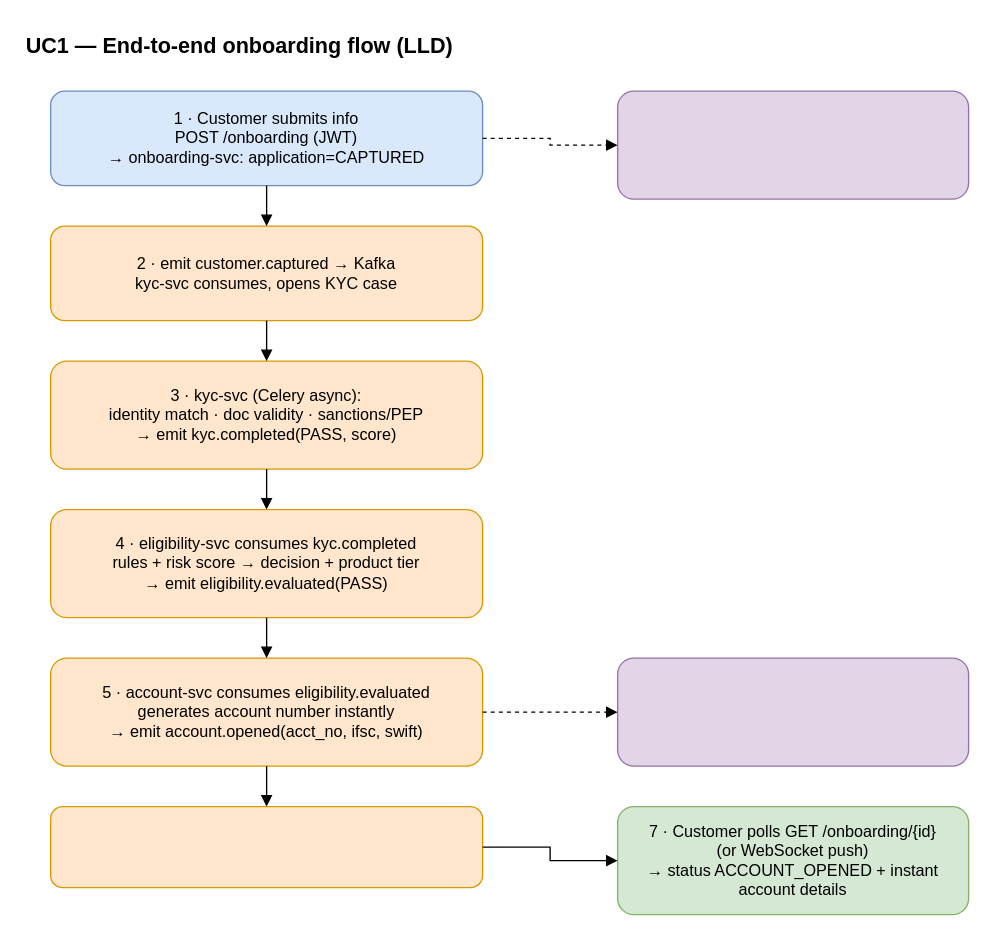
The diagram is 992 pixels wide and 938 high, and some of its shapes have lost their labels. The centre of each missing label's shape, as x and y in pixels:
6 · onboarding-svc consumes account.opened application = ACCOUNT_OPENED: [266,846]
audit-svc append-only hash-chained log (consumes EVERY step): [792,144]
notification-svc welcome + account details (consumes account.opened): [792,711]
